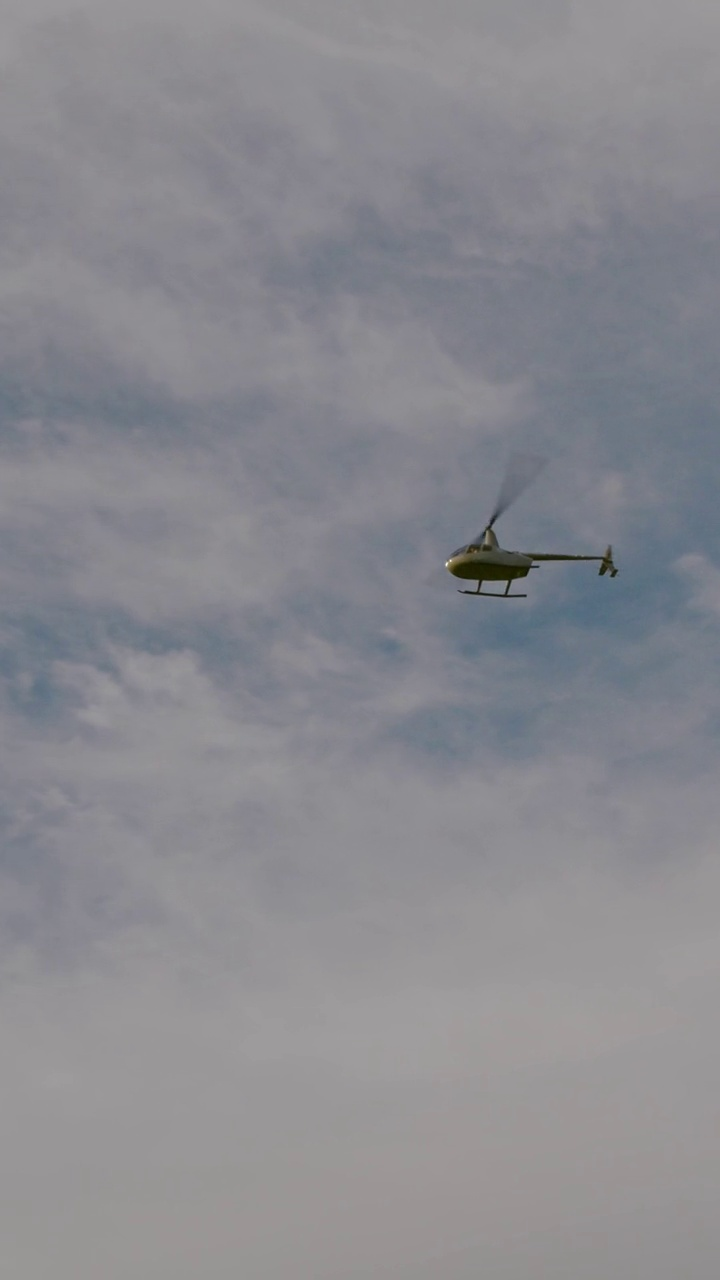heli: (443, 470, 618, 602)
